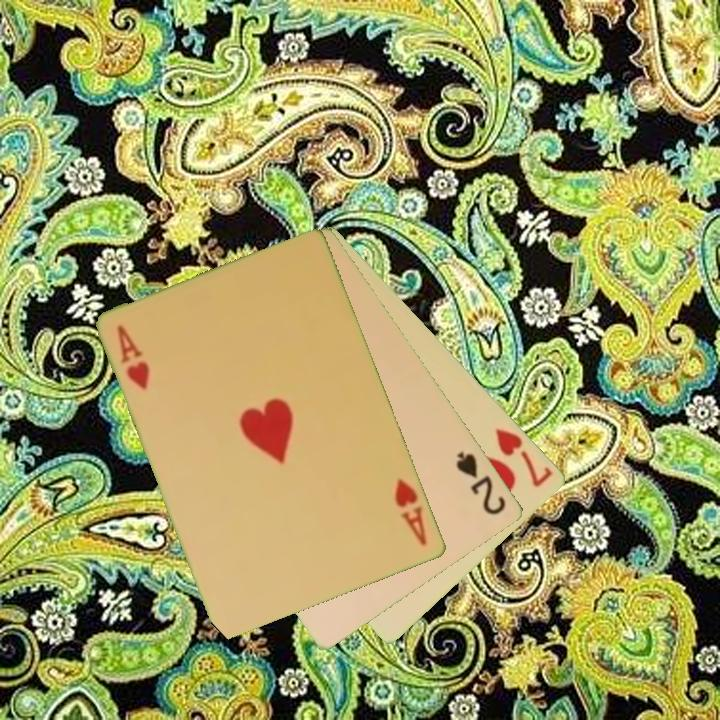2s: (453, 448, 510, 518)
7h: (492, 425, 556, 490)
Ah: (391, 474, 431, 549), (114, 321, 153, 393)
